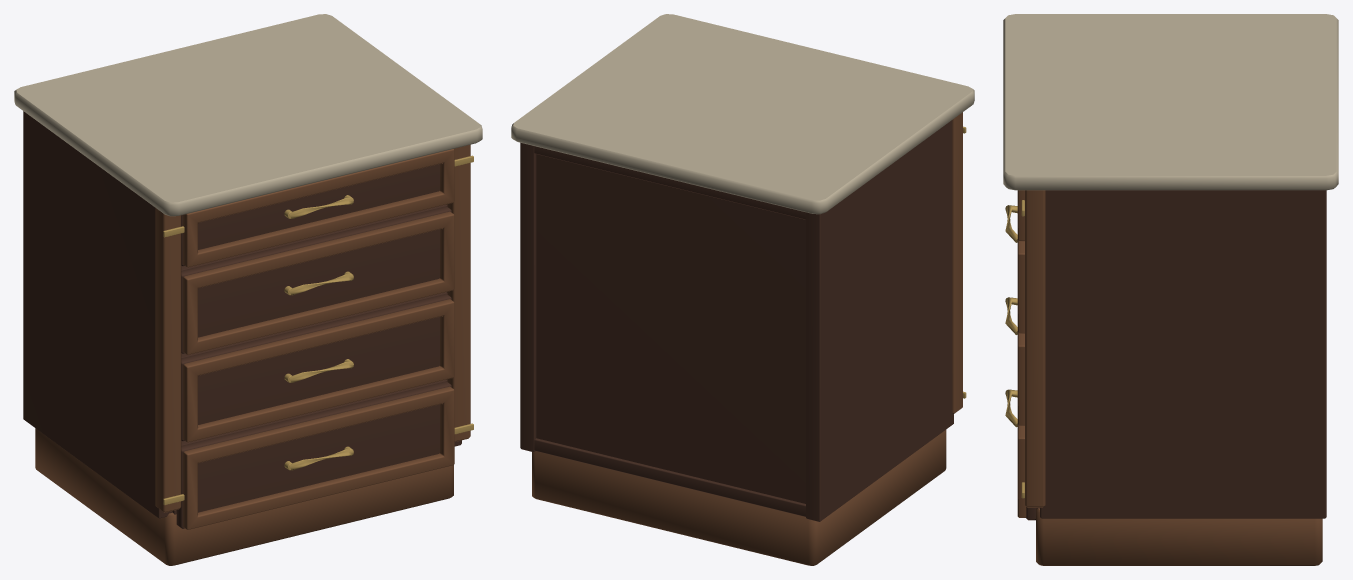
File: rpg-mansion-kitchen-four-drawer-750-01.glb
3 renders of one model, left to right at view 1: azimuth 30°, elevation 25°; view 2: azimuth 150°, elevation 25°; view 3: azimuth 270°, elevation 25°, orthographic. The views are drawn at different scales.
Visible parts, largest first — view 1: rpg-mansion-kitchen-four-drawer-750-01; view 2: rpg-mansion-kitchen-four-drawer-750-01; view 3: rpg-mansion-kitchen-four-drawer-750-01.
Part boxes in pixels (left/top/right/bottom): rpg-mansion-kitchen-four-drawer-750-01: left=14, top=14, right=482, bottom=565; rpg-mansion-kitchen-four-drawer-750-01: left=511, top=14, right=974, bottom=565; rpg-mansion-kitchen-four-drawer-750-01: left=1003, top=14, right=1338, bottom=565.
Bounding box in the file's own units: 0.75 × 0.85 × 0.65.
